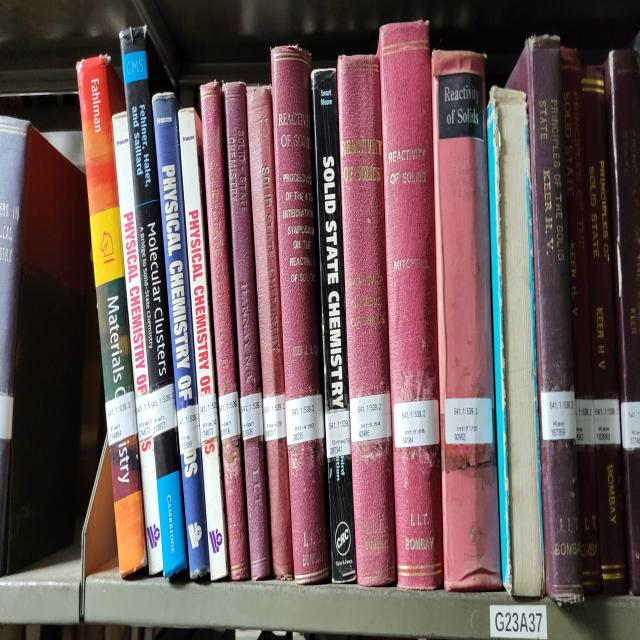Book: (509, 35, 584, 603), (431, 51, 501, 590), (76, 54, 146, 574), (378, 22, 442, 590), (120, 30, 186, 576), (271, 46, 330, 584), (338, 57, 396, 584), (154, 95, 209, 579), (200, 81, 249, 582), (222, 81, 270, 579), (179, 108, 229, 582), (246, 87, 294, 579), (112, 111, 162, 574), (311, 70, 355, 582), (561, 46, 601, 593)
Label: (394, 400, 440, 449), (445, 398, 494, 444), (350, 392, 391, 441), (285, 395, 324, 446), (105, 392, 138, 446), (150, 384, 178, 436), (325, 409, 351, 457), (178, 403, 201, 455), (240, 392, 264, 441), (262, 392, 286, 441), (219, 390, 240, 441), (199, 392, 219, 444), (135, 392, 152, 441)
